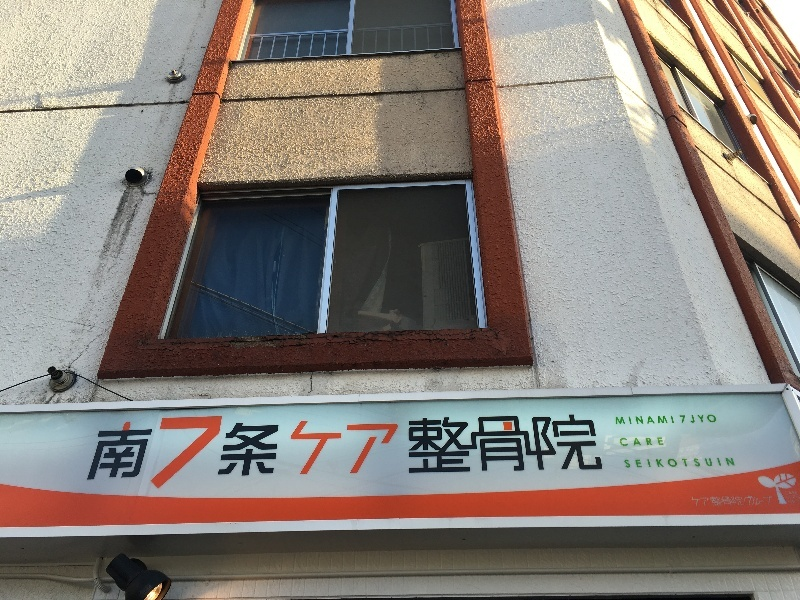text: (113, 410, 128, 493), (129, 410, 144, 493), (145, 410, 160, 493), (161, 410, 176, 493), (177, 410, 192, 493), (193, 410, 208, 493), (209, 410, 224, 493), (225, 410, 240, 493), (241, 410, 256, 493), (257, 410, 272, 493), (273, 410, 288, 493), (289, 410, 304, 493), (305, 410, 320, 493), (321, 410, 336, 493), (337, 410, 352, 493), (353, 410, 368, 493), (369, 410, 384, 493), (385, 410, 400, 493), (401, 410, 416, 493), (417, 410, 432, 493), (433, 410, 448, 493), (449, 410, 464, 493), (465, 410, 480, 493), (481, 410, 496, 493), (497, 410, 512, 493), (513, 410, 528, 493), (529, 410, 544, 493), (545, 410, 560, 493), (561, 410, 576, 493), (577, 410, 592, 493), (102, 410, 112, 493), (593, 410, 603, 493), (785, 491, 800, 504), (705, 495, 720, 506), (721, 495, 736, 506), (737, 495, 752, 506), (753, 495, 768, 506), (625, 458, 640, 469), (641, 458, 656, 469), (657, 458, 672, 469), (673, 458, 688, 469), (689, 458, 704, 469), (705, 458, 720, 469), (625, 438, 640, 448), (641, 438, 656, 448), (625, 415, 640, 425), (641, 415, 656, 425), (657, 415, 672, 425), (673, 415, 688, 425), (689, 415, 704, 425), (721, 458, 734, 469), (692, 495, 704, 506), (705, 415, 716, 425), (616, 415, 624, 425), (657, 438, 664, 448), (620, 438, 624, 448), (769, 495, 772, 506)
